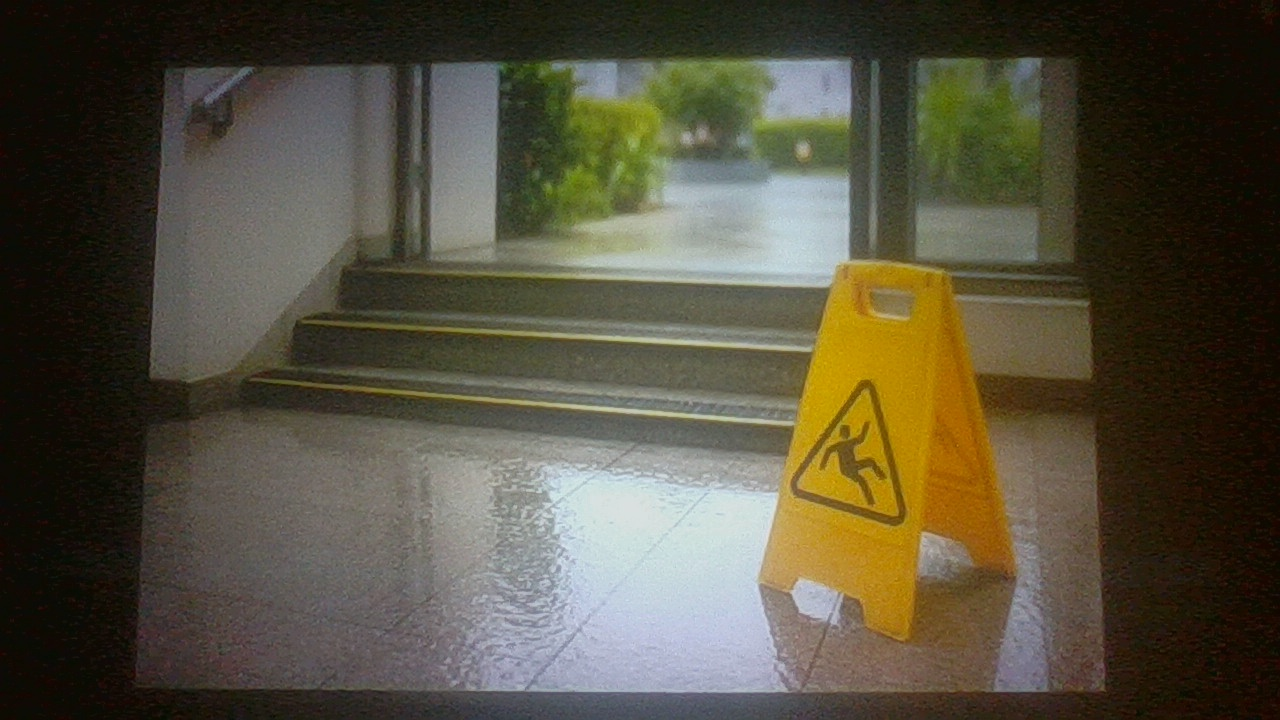slippery_floor: (763, 236, 1010, 650)
